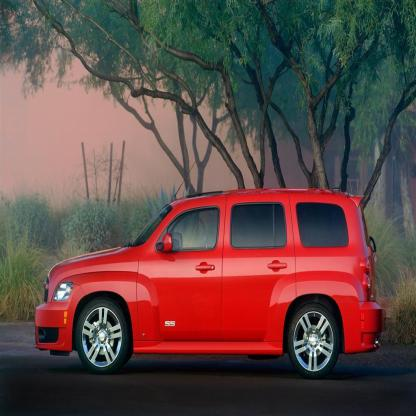car: (32, 183, 386, 386)
